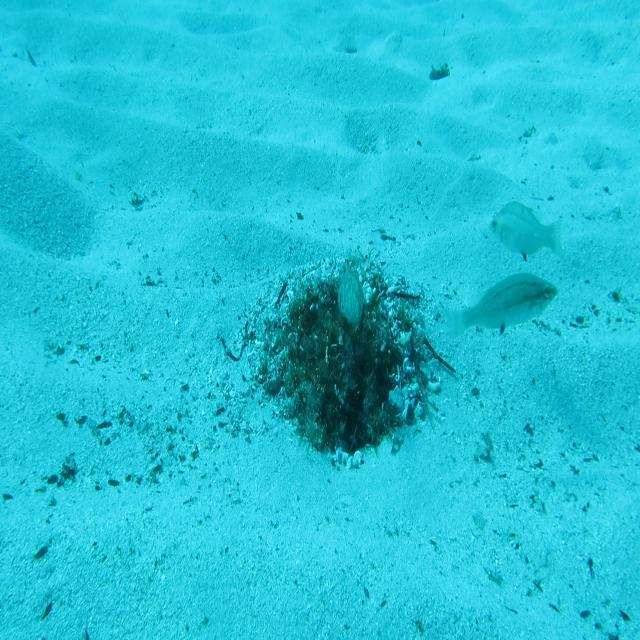NIP_CORE: (336, 256, 365, 332)
core_nest: (320, 303, 361, 349)
female: (444, 269, 560, 344), (487, 196, 567, 268)
nest: (235, 250, 452, 482)
vegetation: (427, 62, 452, 82)
